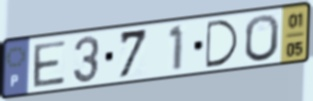1: (167, 24, 187, 73)
3: (70, 34, 100, 84)
7: (117, 27, 150, 81)
D: (204, 17, 241, 70)
E: (31, 38, 68, 90)
O: (243, 13, 281, 64)
